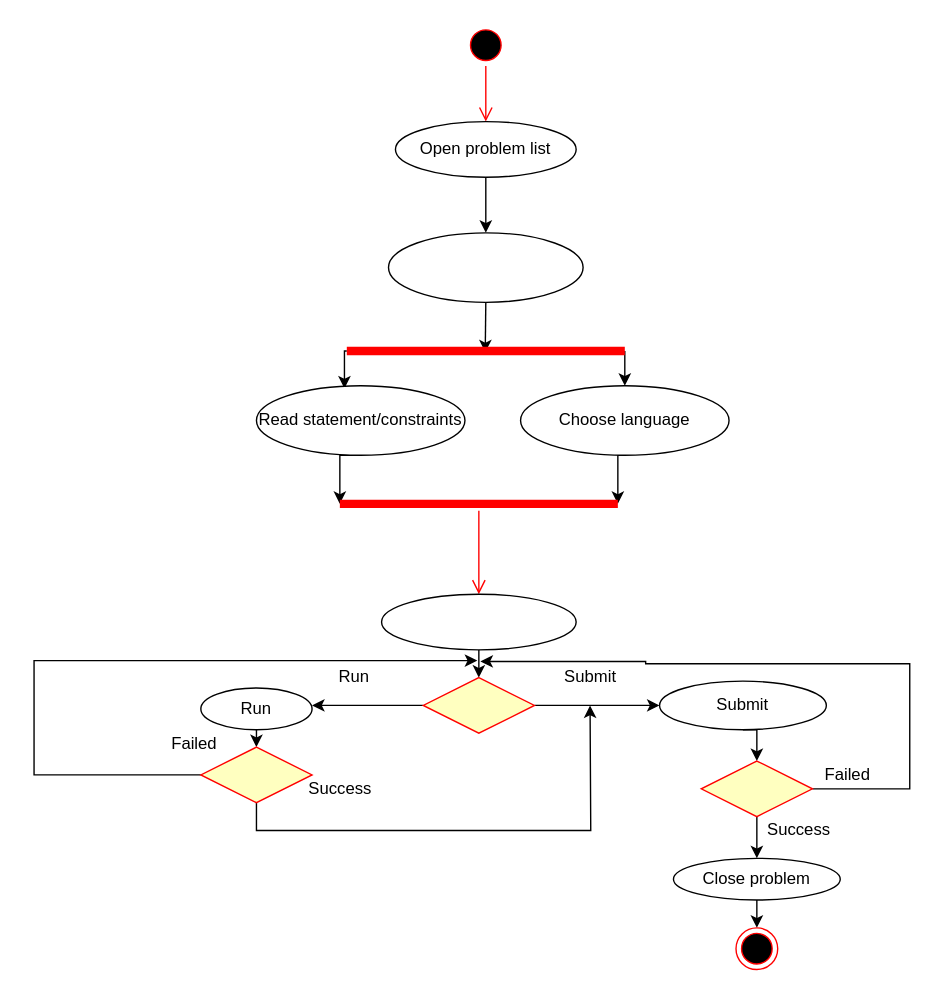
Some shapes in this 945 by 994 pixel diagram are drawn without their labels. Here are the shapes that lost their labels. From the top down, the box of each, then its label:
(387, 231, 583, 302): Pick a problem
(380, 593, 576, 650): Start solving
